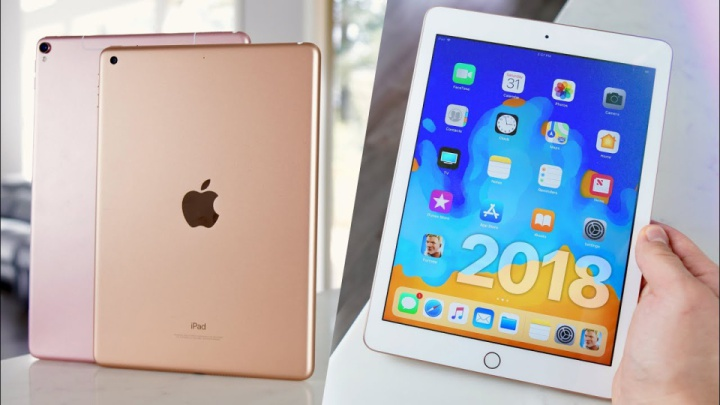apple: (164, 170, 242, 242)
